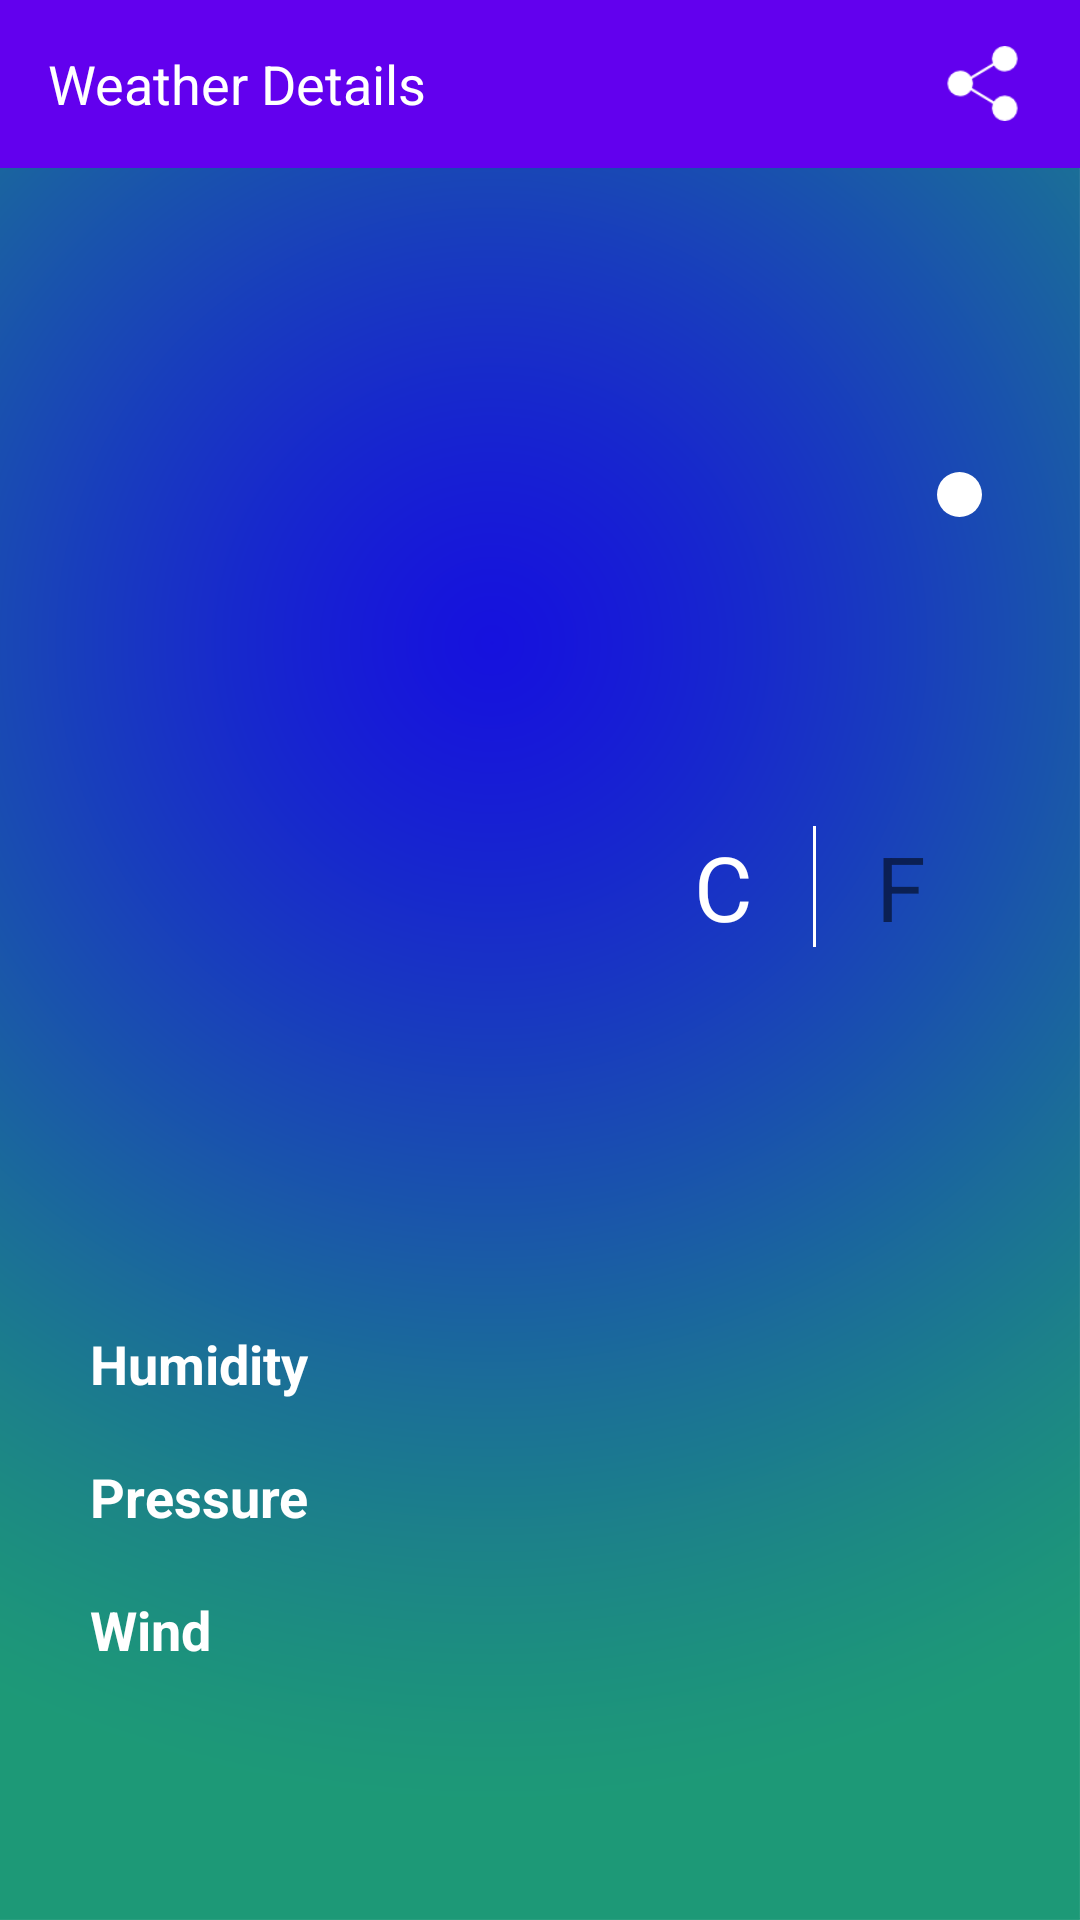

Named icons in this screenshot (1080px x 1920px) and their bounding boxes, bbox=(x1, y1, x2, y2):
share: bbox=(947, 46, 1018, 121)
